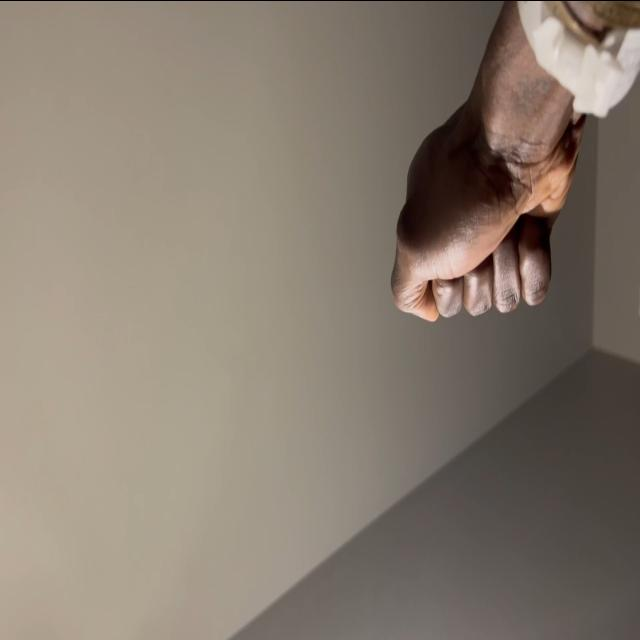Rock: (388, 93, 570, 320)
